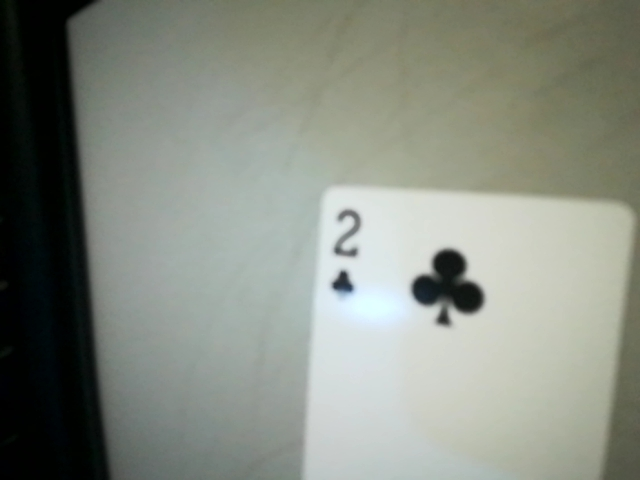mh 2: (314, 196, 376, 309)
